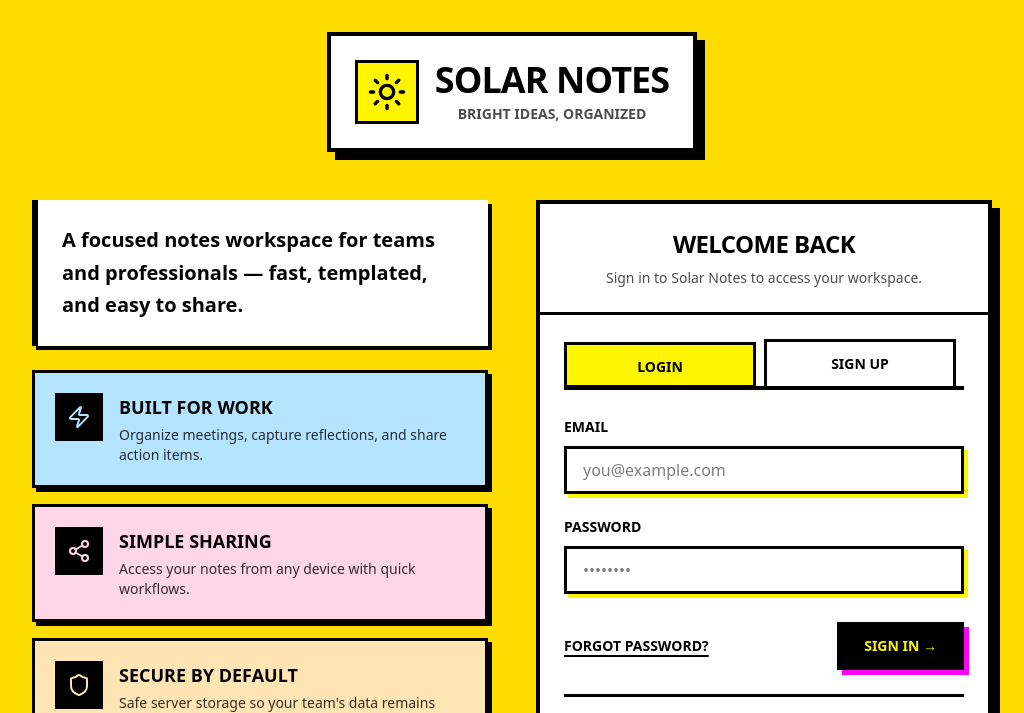
AuthPage - Functional Tests › Login Functionality › should display error message on login failure
This screenshot has width=1024, height=713.
Step 1. Type "test@example.com" into the field labelled "Email" → (764, 470), box [564, 446, 964, 494]
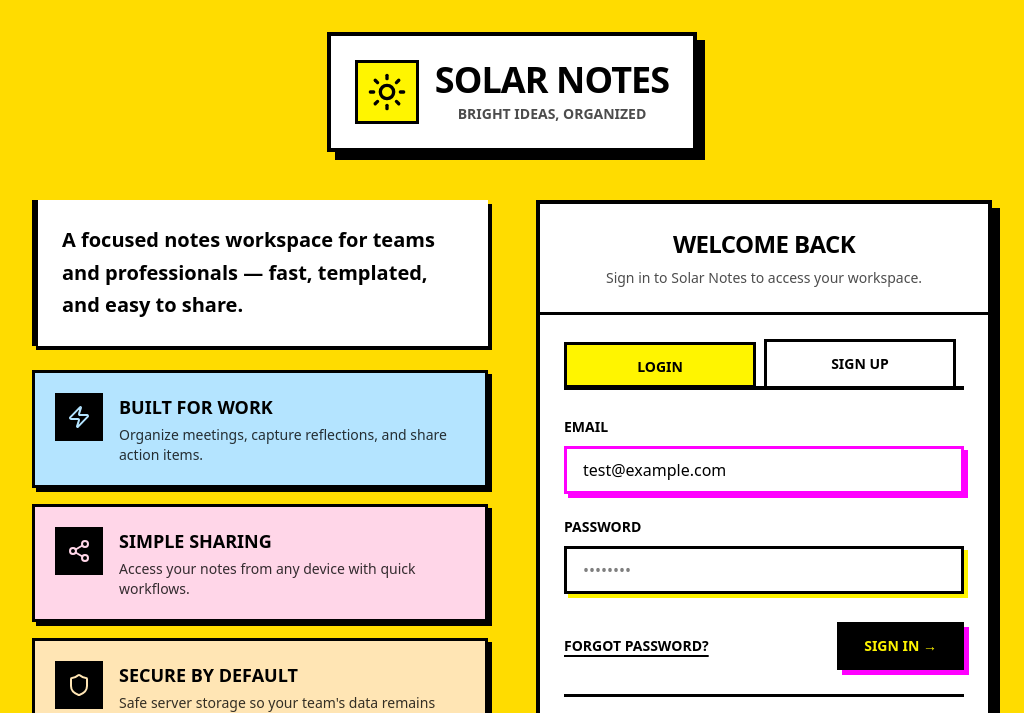
Step 2. Type "wrongpassword" into the password field labelled "Password" → (764, 570), box [564, 546, 964, 594]
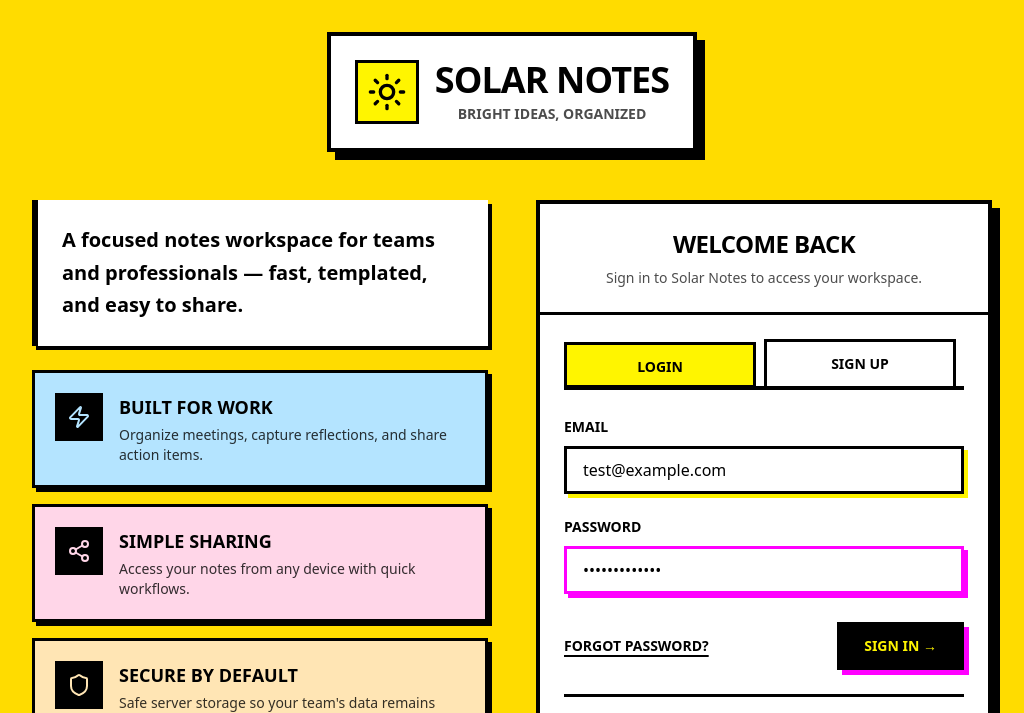
Step 3. Click the button "Sign in →" → (901, 646), box [837, 622, 964, 670]
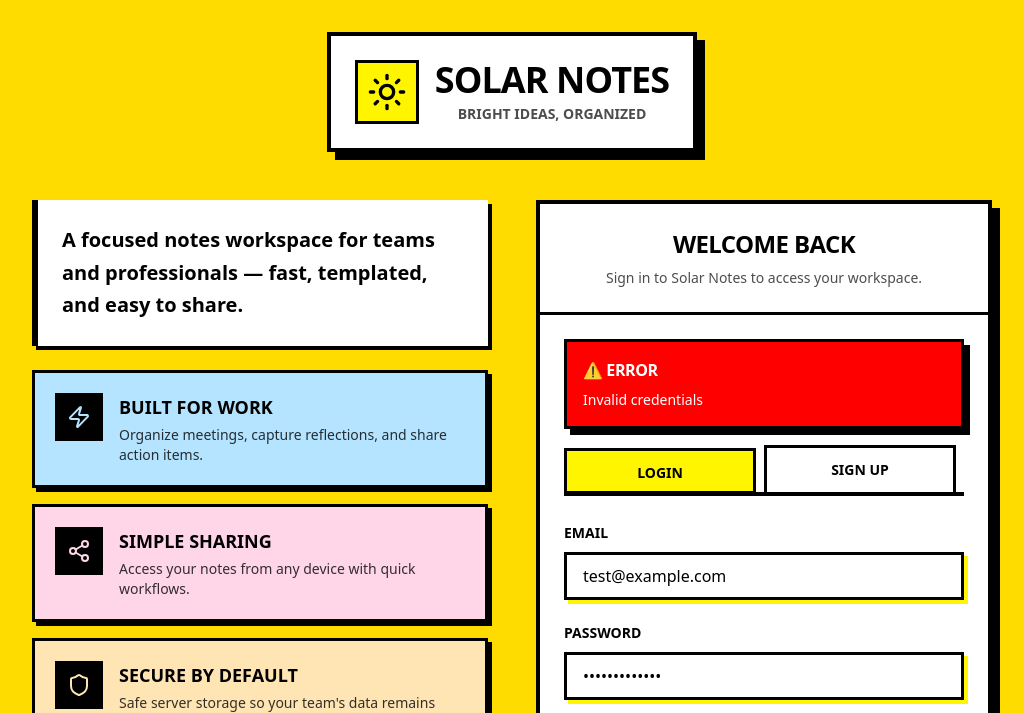
Check: the text "Invalid credentials" is shown, box [583, 390, 703, 409]
